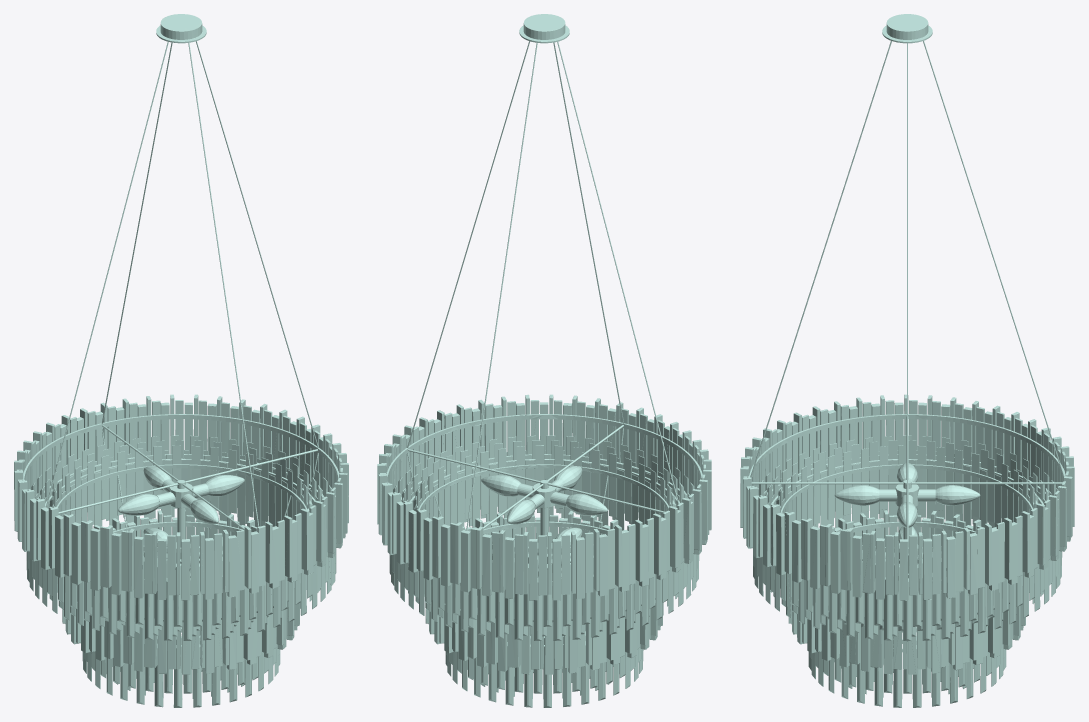
File: empire.glb
3 views of the same model, side by side, from view 1: azimuth 30°, elevation 25°; view 2: azimuth 150°, elevation 25°; view 3: azimuth 270°, elevation 25° (orthographic).
Visible parts, largest first — view 1: metal, crystal; view 2: metal, crystal; view 3: metal, crystal.
Part boxes in pixels (bbox=[...]): metal: bbox=[14, 14, 348, 707]; crystal: bbox=[26, 436, 336, 707]; metal: bbox=[377, 14, 711, 706]; crystal: bbox=[389, 436, 699, 707]; metal: bbox=[740, 14, 1074, 698]; crystal: bbox=[753, 436, 1062, 707].
Size of the model in its own units: 0.8 by 1.7 by 0.7998.
